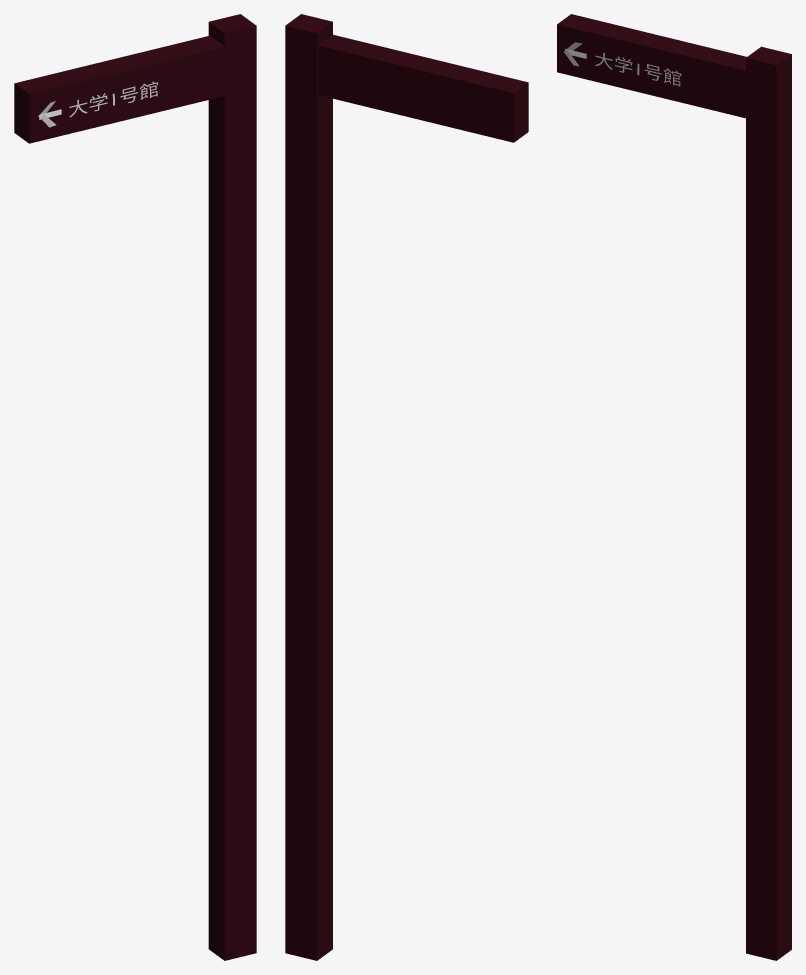
Rendered from kanban_aoyamacampas_yukari.glb.
The picture shows the model from 3 angles, left to right: view 1: azimuth 30°, elevation 25°; view 2: azimuth 150°, elevation 25°; view 3: azimuth 330°, elevation 25°; orthographic projection. The views are drawn at different scales.
Parts seen in each view (by area): view 1: Cube, 立方体, テキスト; view 2: Cube, 立方体; view 3: Cube, 立方体, テキスト.
Part boxes in pixels (x1,y1,x2,y2): Cube: [208, 14, 256, 960]; 立方体: [14, 35, 228, 143]; テキスト: [69, 81, 157, 117]; Cube: [285, 14, 332, 960]; 立方体: [318, 34, 528, 142]; Cube: [746, 46, 791, 960]; 立方体: [557, 14, 749, 119]; テキスト: [595, 53, 681, 86].
Bounding box in the file's own units: 3.13 × 12.19 × 0.4334.
